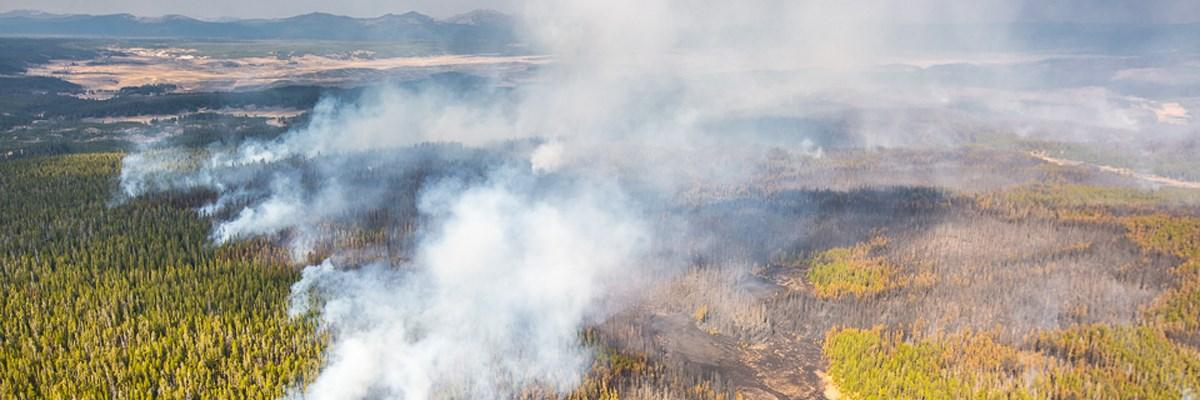smoke: (443, 209, 564, 351)
